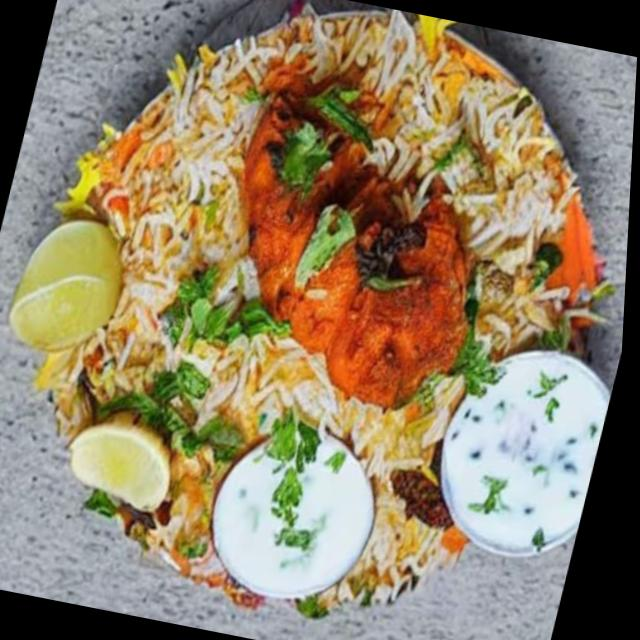BIRIYANI: (33, 11, 591, 600)
CURD: (444, 353, 611, 549), (218, 438, 377, 591)
